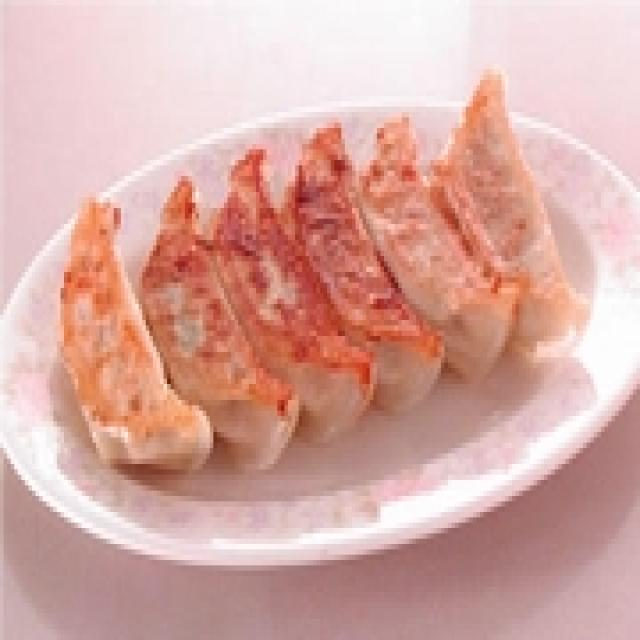带馅早点: (49, 85, 580, 512)
